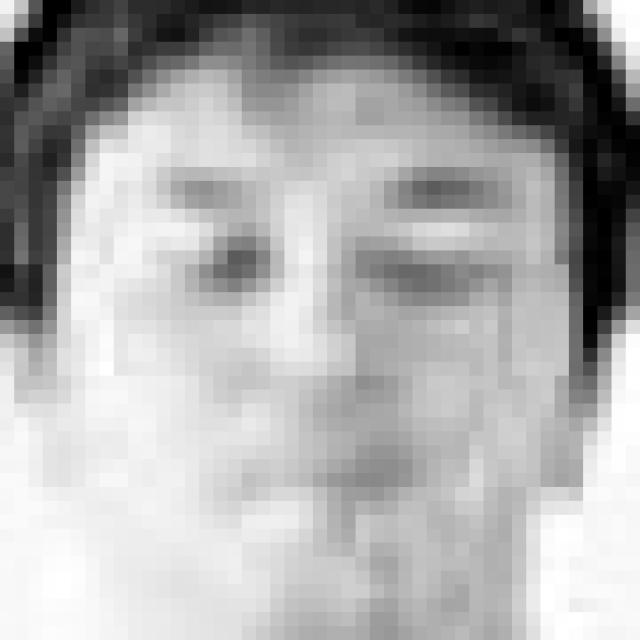Eyeclosed: (368, 240, 486, 300), (180, 237, 269, 290)
